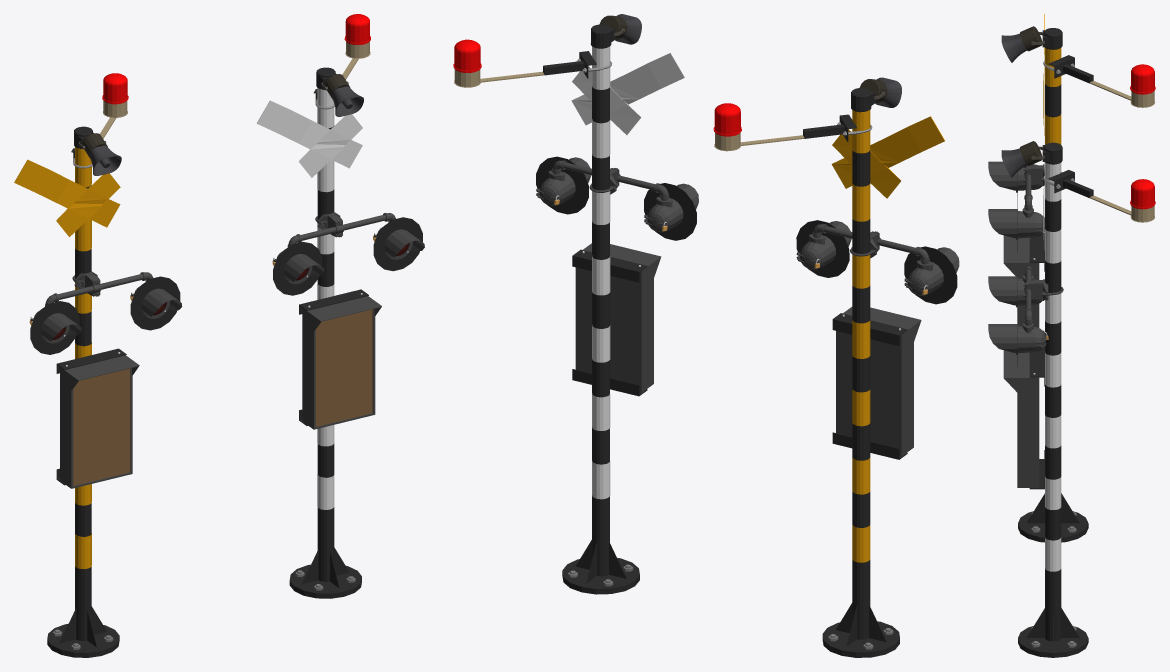
The picture shows the model from 3 angles, left to right: view 1: azimuth 30°, elevation 25°; view 2: azimuth 150°, elevation 25°; view 3: azimuth 270°, elevation 25°; orthographic projection. The views are drawn at different scales.
Visible parts, largest first — view 1: entity_2; view 2: entity_2; view 3: entity_2.
Part boxes in pixels (left/top/right/bottom): entity_2: left=14, top=14, right=424, bottom=657; entity_2: left=453, top=14, right=959, bottom=657; entity_2: left=988, top=14, right=1155, bottom=657.
Size of the model in its own units: 0.0807 by 0.0982 by 0.0297.
22 materials, 1 textured.
